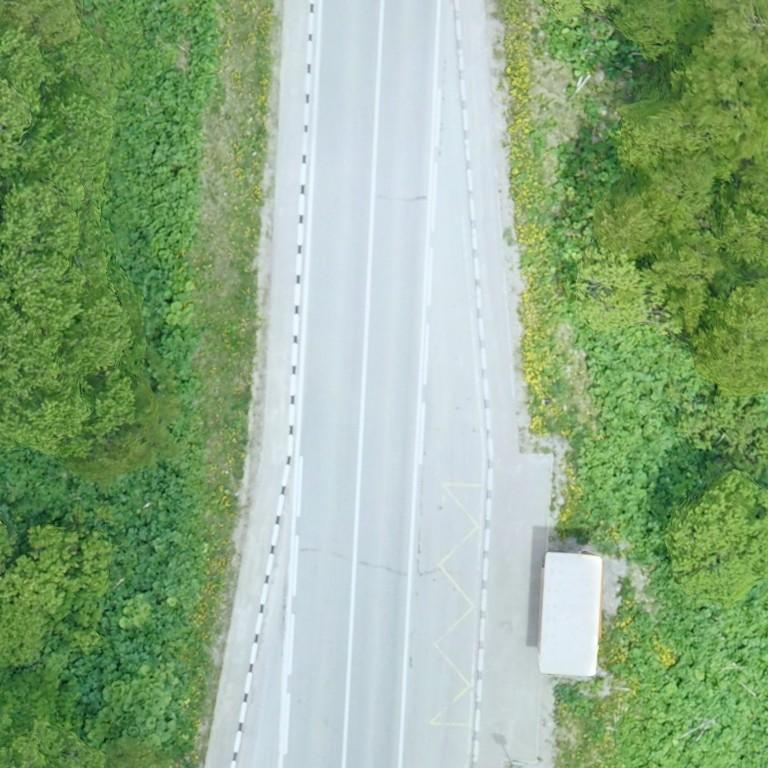hogweed: (0, 448, 197, 712), (108, 0, 219, 389), (568, 324, 712, 562), (612, 592, 767, 767), (553, 684, 578, 702)
